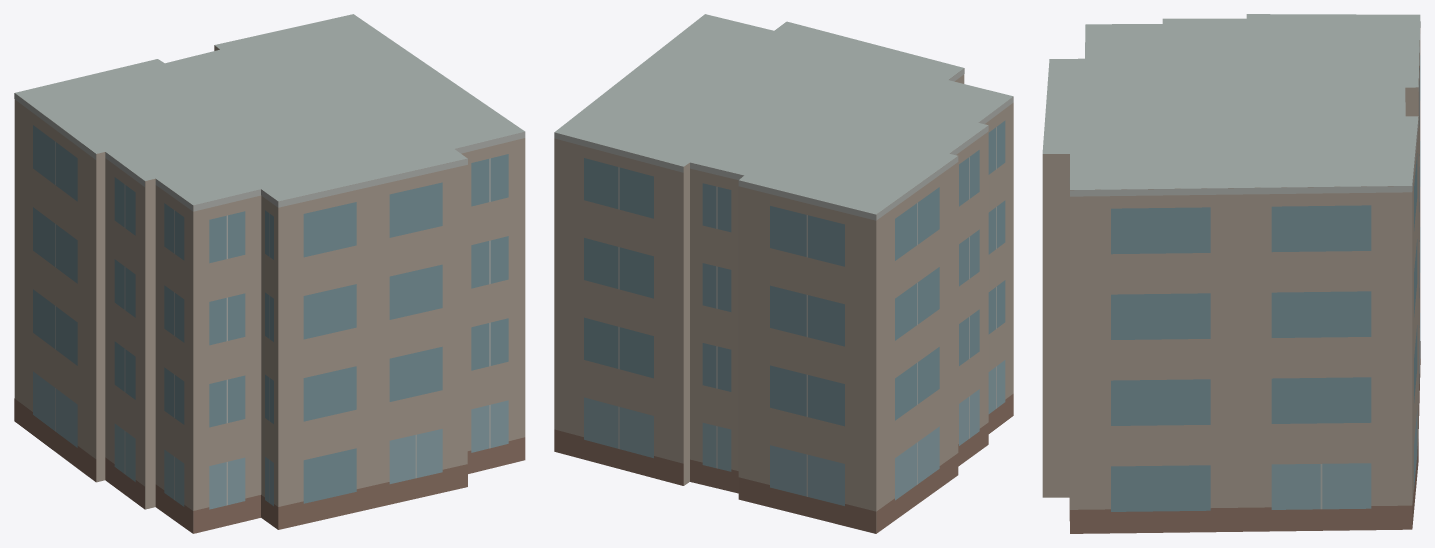
The model's file is survey-upis-33023734.glb.
3 views of the same model, side by side, from view 1: azimuth 30°, elevation 25°; view 2: azimuth 150°, elevation 25°; view 3: azimuth 270°, elevation 25° (orthographic). The views are drawn at different scales.
Parts seen in each view (by area): view 1: survey-upis-33023734.tmp; view 2: survey-upis-33023734.tmp; view 3: survey-upis-33023734.tmp.
Part boxes in pixels (x1=…): survey-upis-33023734.tmp: x1=14, y1=14, x2=525, y2=533; survey-upis-33023734.tmp: x1=554, y1=14, x2=1013, y2=533; survey-upis-33023734.tmp: x1=1042, y1=14, x2=1420, y2=533.
Bounding box in the file's own units: 14.07 × 12.8 × 12.77.
